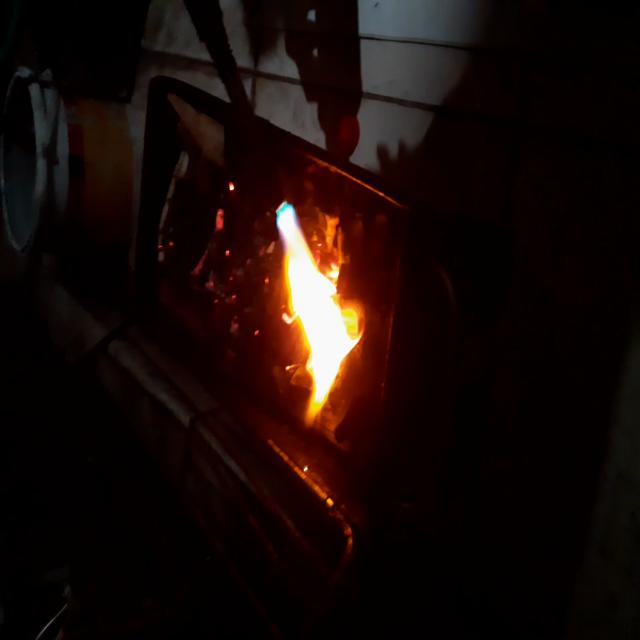Fire: (268, 184, 366, 430)
